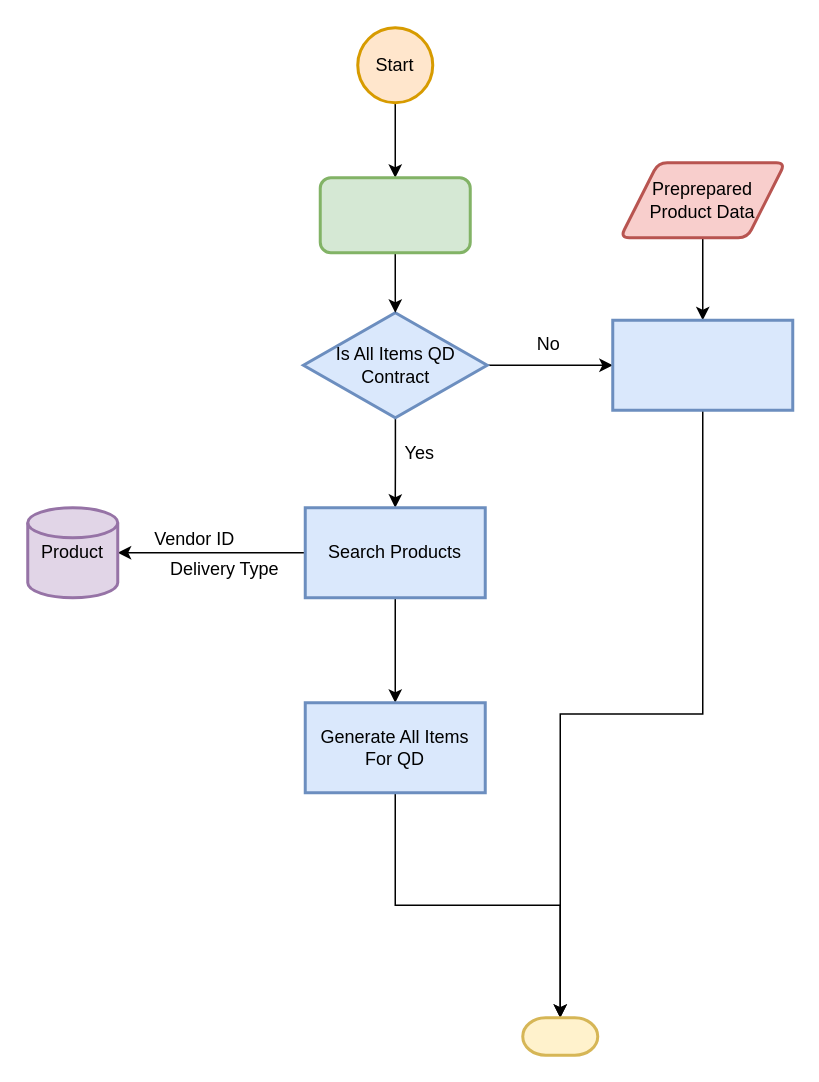
Image size: 819x1082. Some labels were removed from this diagram. Here are the shapes that lost their labels. From the top down, the centre of each, then its label:
the point at 394,215: Generate QD Contract Details
the point at 702,364: Generate QD
the point at 559,1036: End
